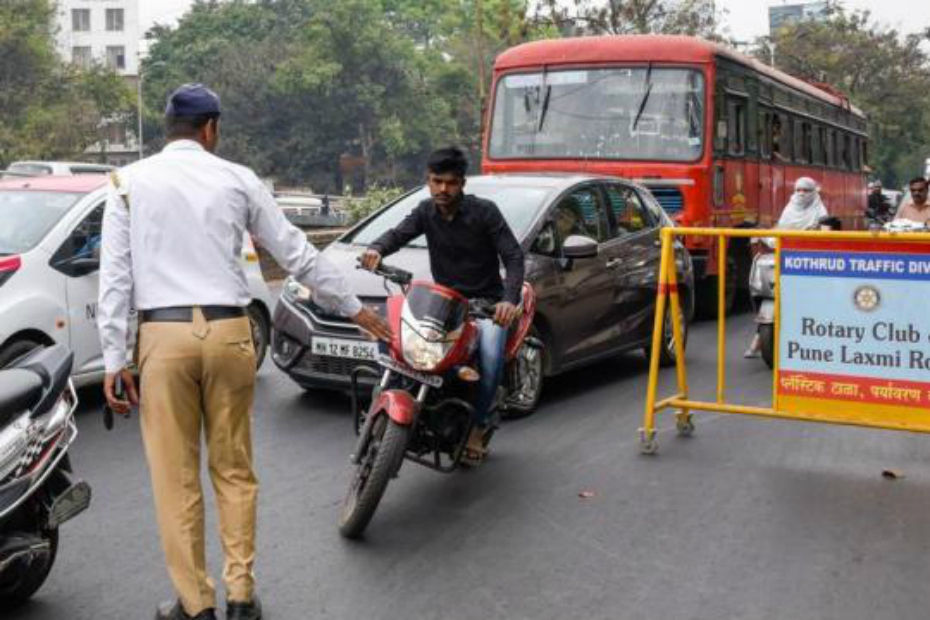noh: (422, 148, 468, 205)
plate: (305, 337, 379, 362)
tw: (360, 260, 491, 548)
